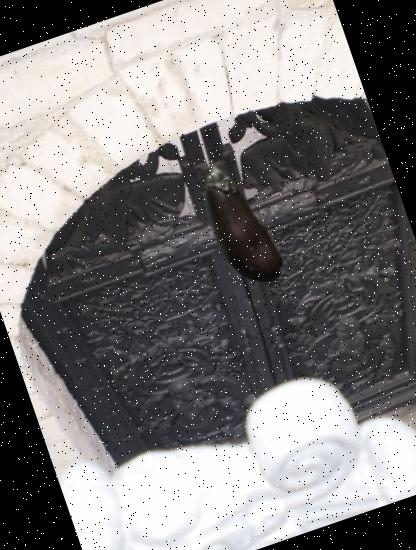Eggplant: (152, 142, 324, 314)
